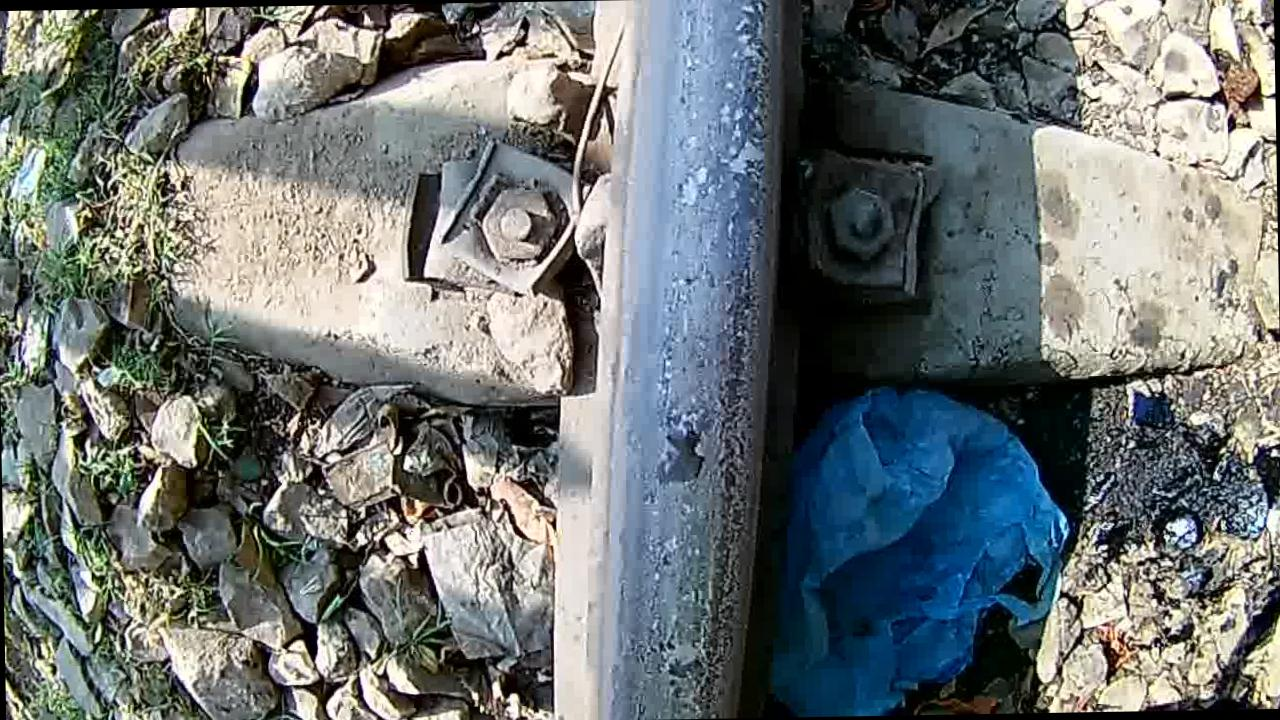crack: (607, 0, 789, 720)
